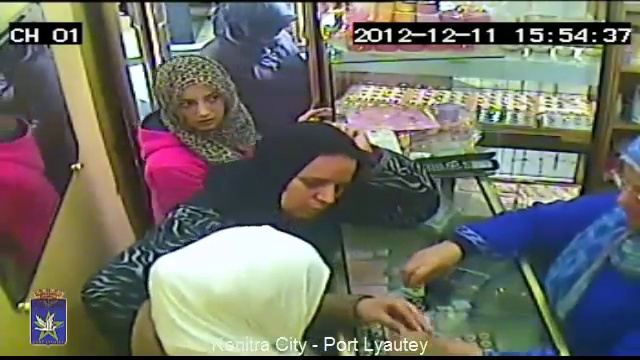face: (279, 163, 347, 221), (180, 82, 224, 132)
